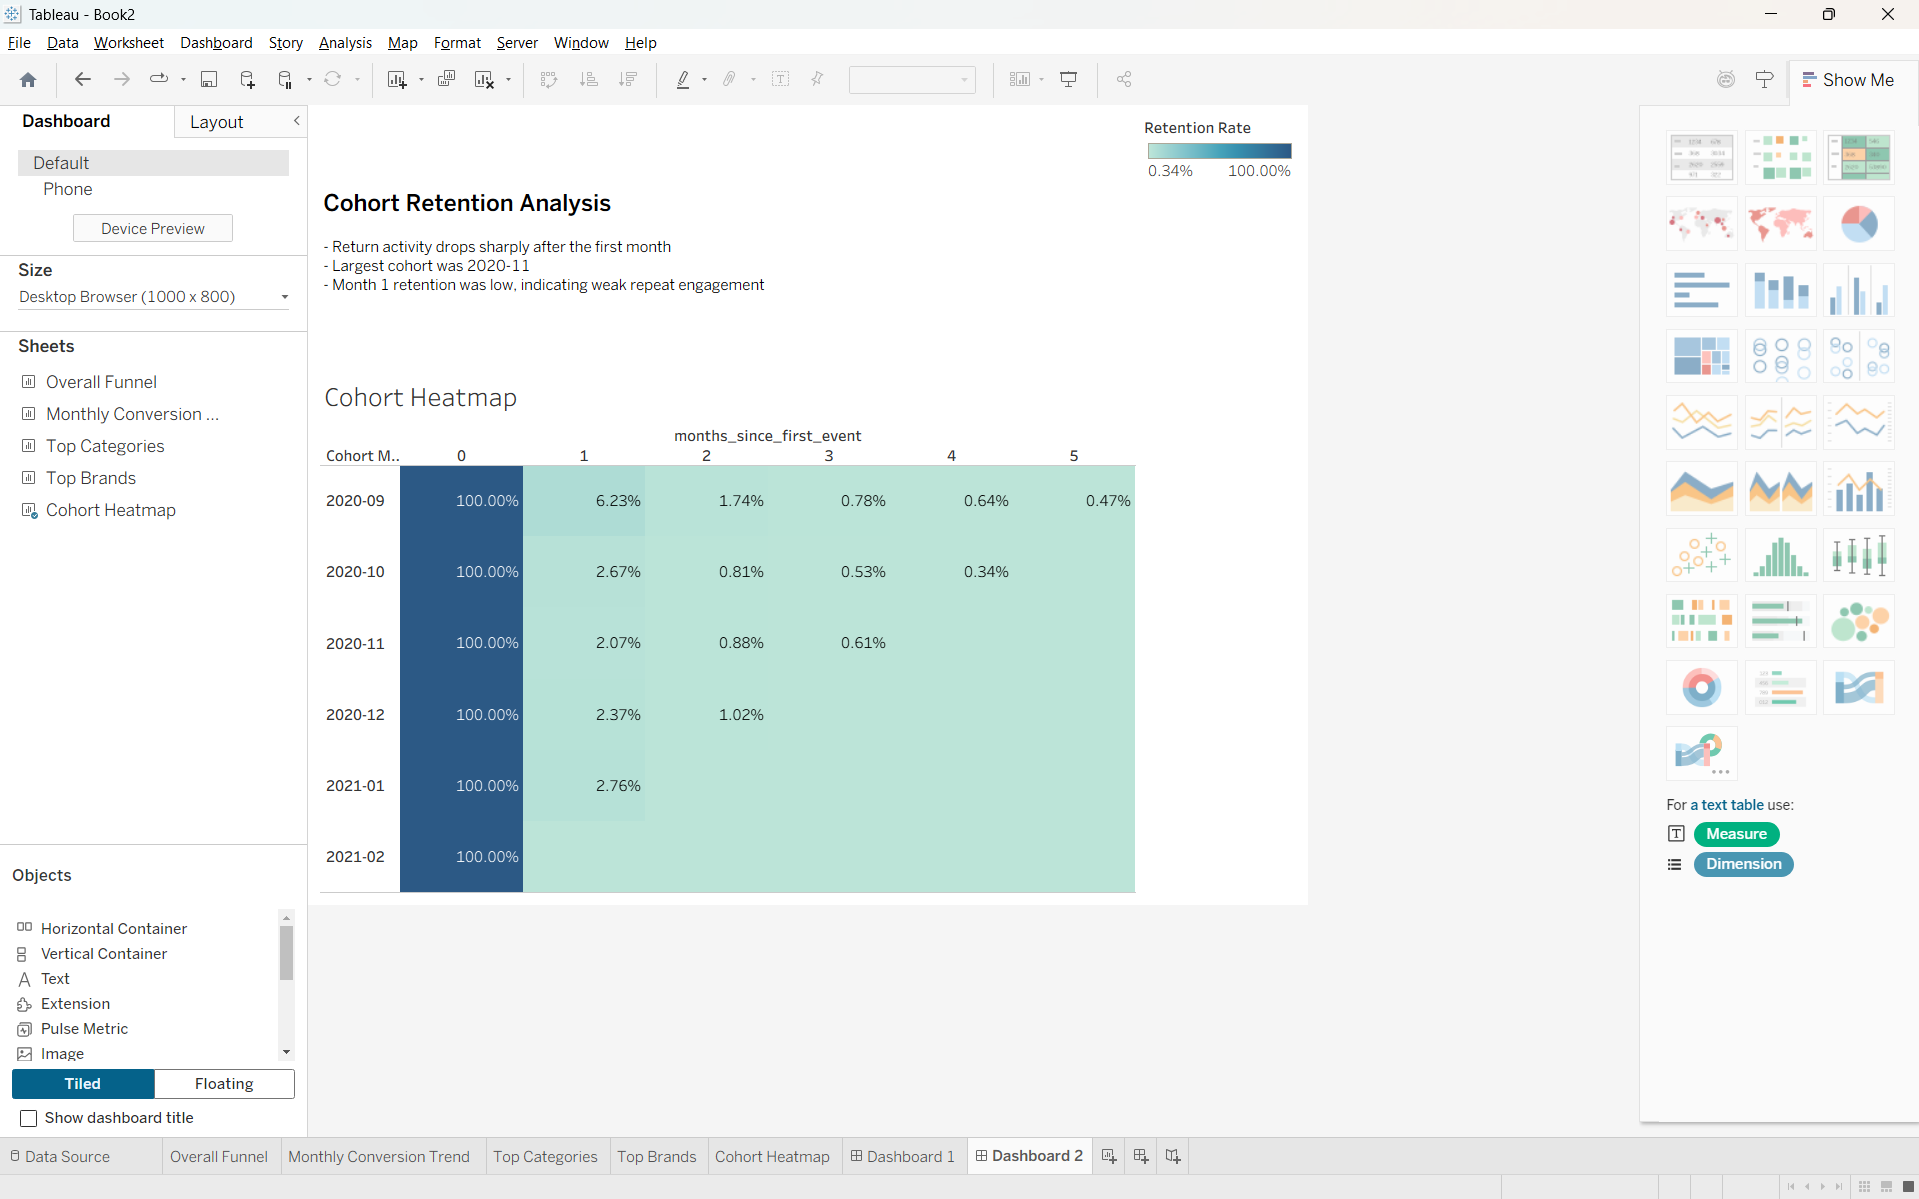

Layout of this report page (visuals, bound fields, positions):
{"tool":"tableau","page":{"name":"Dashboard 2","canvas":[1000,800],"ordinal":1},"visuals":[{"type":"text","box":[8,8,824,258]},{"type":"legend","title":"Cohort Heatmap","param":"[federated.0r0gcqa0gxo8nr167xojr104d2yy].[sum:retention_rate:qk]","box":[832,8,160,258]},{"type":"worksheet","title":"Cohort Heatmap","mark":"Square","rows":["cohort_month"],"cols":["months_since_first_event"],"box":[8,266,824,526]}]}

Visuals, with their boxes on the page's 1000x800 design canvas (x1, y1, x2, y2). These are canvas units, not pixel positions in the 1919x1199 screenshot, which may show the page scaled, cropped or inside an application window:
text: <bbox>8, 8, 832, 266</bbox>
"Cohort Heatmap" legend: <bbox>832, 8, 992, 266</bbox>
"Cohort Heatmap" worksheet (Square marks): <bbox>8, 266, 832, 792</bbox>
